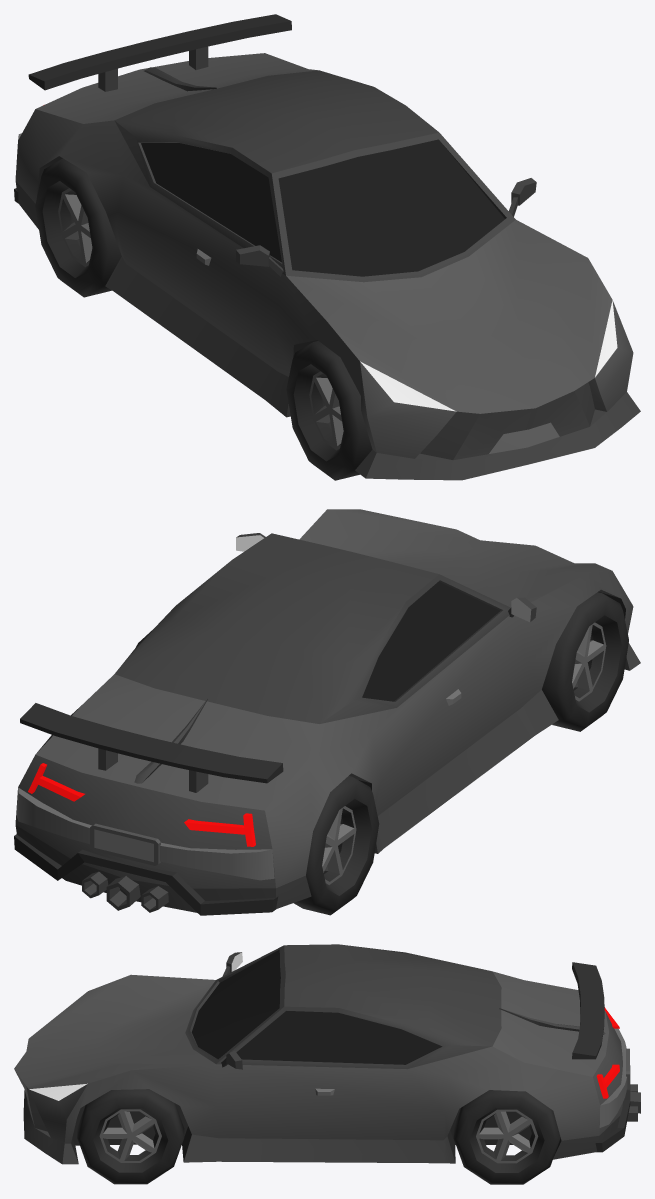
Rendered from ghini.glb.
3 renders of one model, top to bottom at view 1: azimuth 30°, elevation 25°; view 2: azimuth 150°, elevation 25°; view 3: azimuth 270°, elevation 25°, orthographic. The views are drawn at different scales.
Parts seen in each view (by area): view 1: ghini, wheels.008, wheels.009; view 2: ghini, wheels.008, wheels.009; view 3: ghini, wheels.051, wheels.050.
Boxes of the visible parts, box(x1,y1,x2,y2) form: ghini: box(14, 14, 640, 480); wheels.008: box(286, 341, 372, 480); wheels.009: box(35, 158, 121, 297); ghini: box(14, 509, 640, 915); wheels.008: box(542, 592, 628, 731); wheels.009: box(293, 776, 379, 915); ghini: box(14, 944, 640, 1164); wheels.051: box(77, 1089, 184, 1184); wheels.050: box(453, 1090, 560, 1184).
Bounding box in the file's own units: 1.97 × 1.38 × 4.79.
4 materials, 4 textured.
